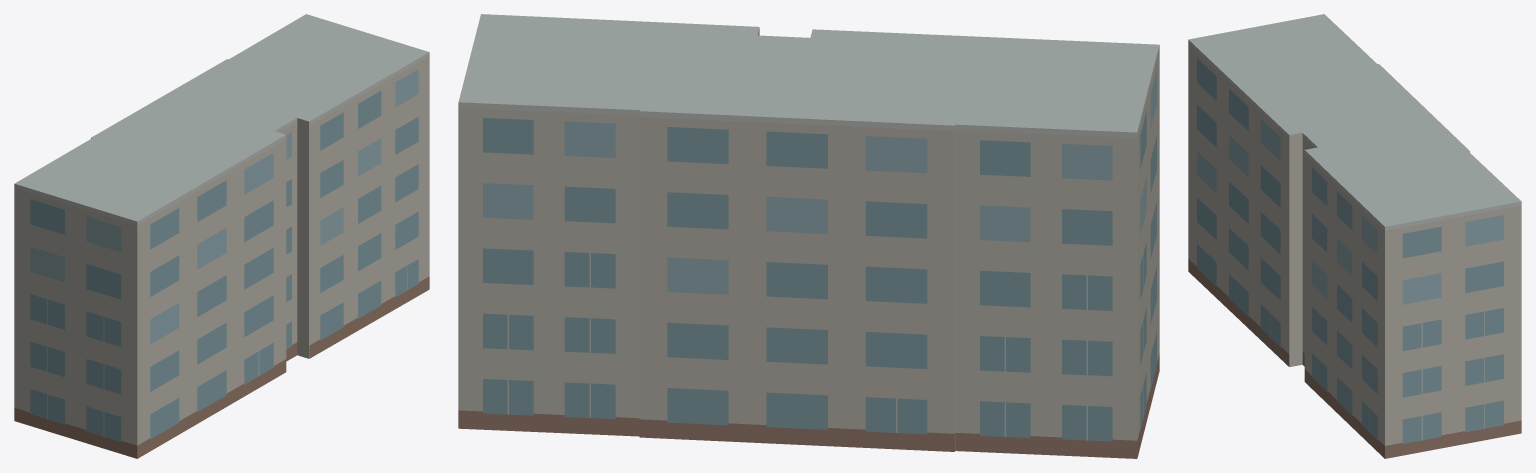
Rendered from survey-upis-32683278.glb.
The picture shows the model from 3 angles, left to right: view 1: azimuth 30°, elevation 25°; view 2: azimuth 150°, elevation 25°; view 3: azimuth 270°, elevation 25°; orthographic projection. The views are drawn at different scales.
Visible parts, largest first — view 1: survey-upis-32683278.tmp; view 2: survey-upis-32683278.tmp; view 3: survey-upis-32683278.tmp.
Boxes of the visible parts, x1,y1,x2,y2 form: survey-upis-32683278.tmp: [14, 14, 429, 458]; survey-upis-32683278.tmp: [458, 14, 1159, 458]; survey-upis-32683278.tmp: [1188, 14, 1521, 458].
Bounding box in the file's own units: 27.95 × 14.2 × 18.5.
